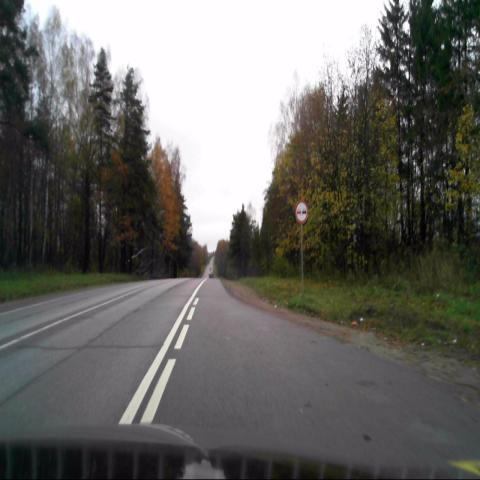3_20: (294, 200, 308, 222)
